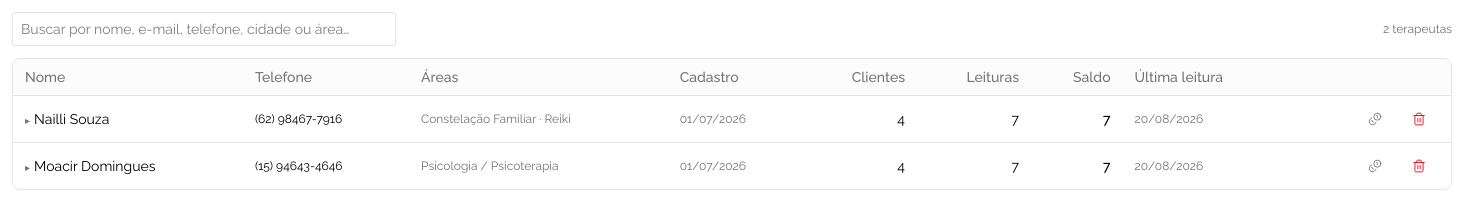
Test: TherapistTable — o que a tela mostra sem clicar › a busca também acha por cidade
The width and height of the screenshot is (1464, 207).
Type "goiânia" into the field with placeholder "Buscar por nome, e-mail, telefone, cidade ou área…" at (204, 29), box [12,12,396,46]
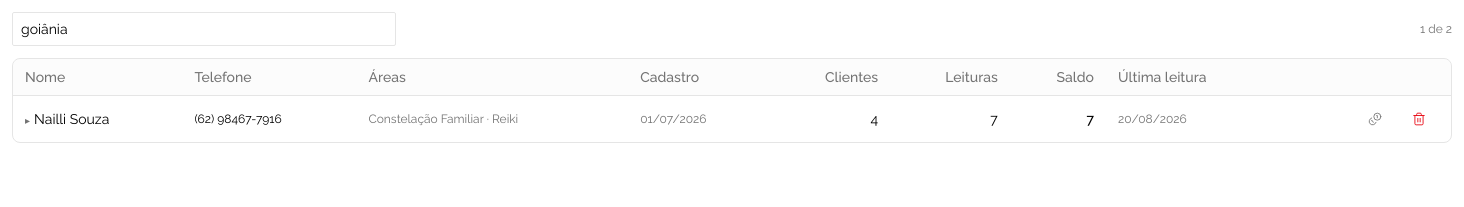
Expected: the text "Nailli Souza" is shown, [34,111,109,127]
Result: the text "Moacir Domingues" is gone
